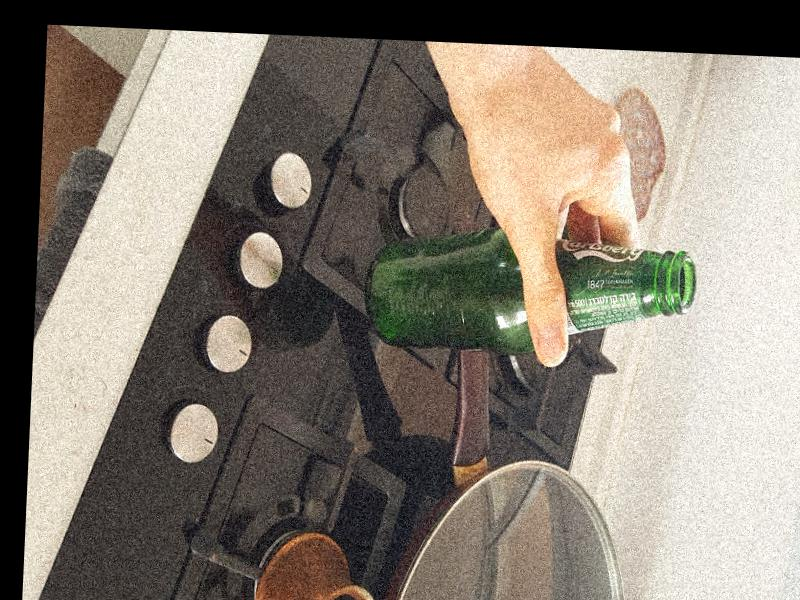Beer: (363, 235, 694, 359)
